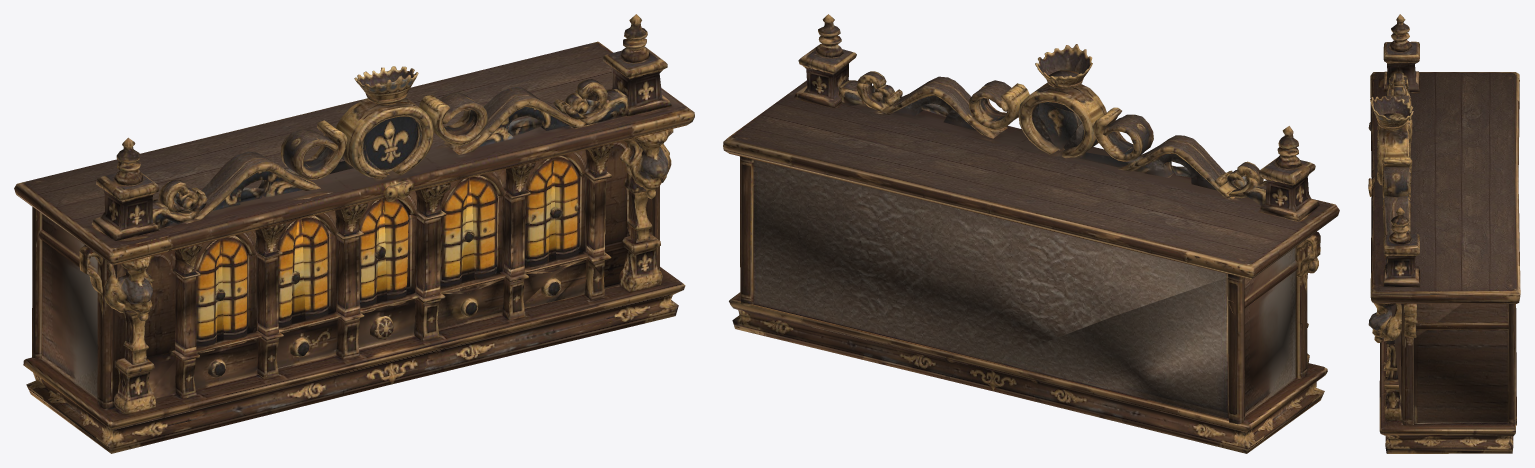
Rendered from stern-gallery.glb.
3 renders of one model, left to right at view 1: azimuth 30°, elevation 25°; view 2: azimuth 150°, elevation 25°; view 3: azimuth 270°, elevation 25°, orthographic. The views are drawn at different scales.
Parts seen in each view (by area): view 1: stern-gallery_LOD0; view 2: stern-gallery_LOD0; view 3: stern-gallery_LOD0.
Boxes of the visible parts, <box> form: stern-gallery_LOD0: <box>14,14,694,453</box>; stern-gallery_LOD0: <box>723,14,1339,453</box>; stern-gallery_LOD0: <box>1368,14,1520,453</box>.
Size of what is drawn, in the model's own units: 1 by 0.5183 by 0.2897.
Materials: 1 (1 with a texture image).
